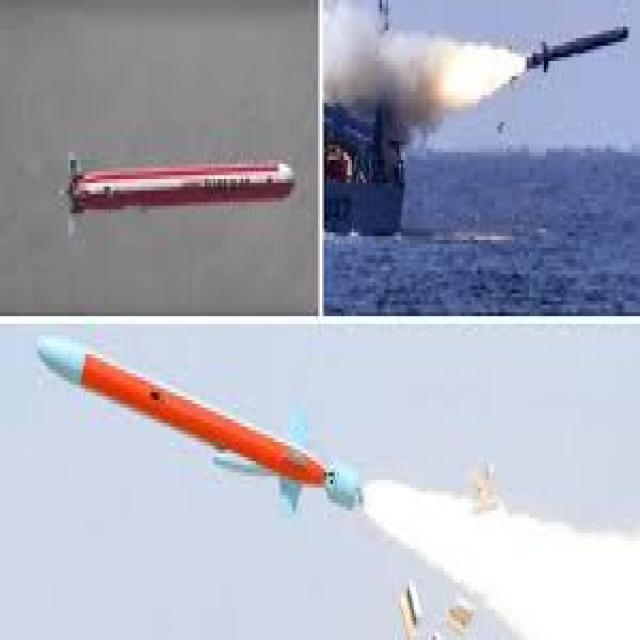missile: (35, 328, 368, 519), (33, 143, 310, 240), (516, 16, 635, 76)
